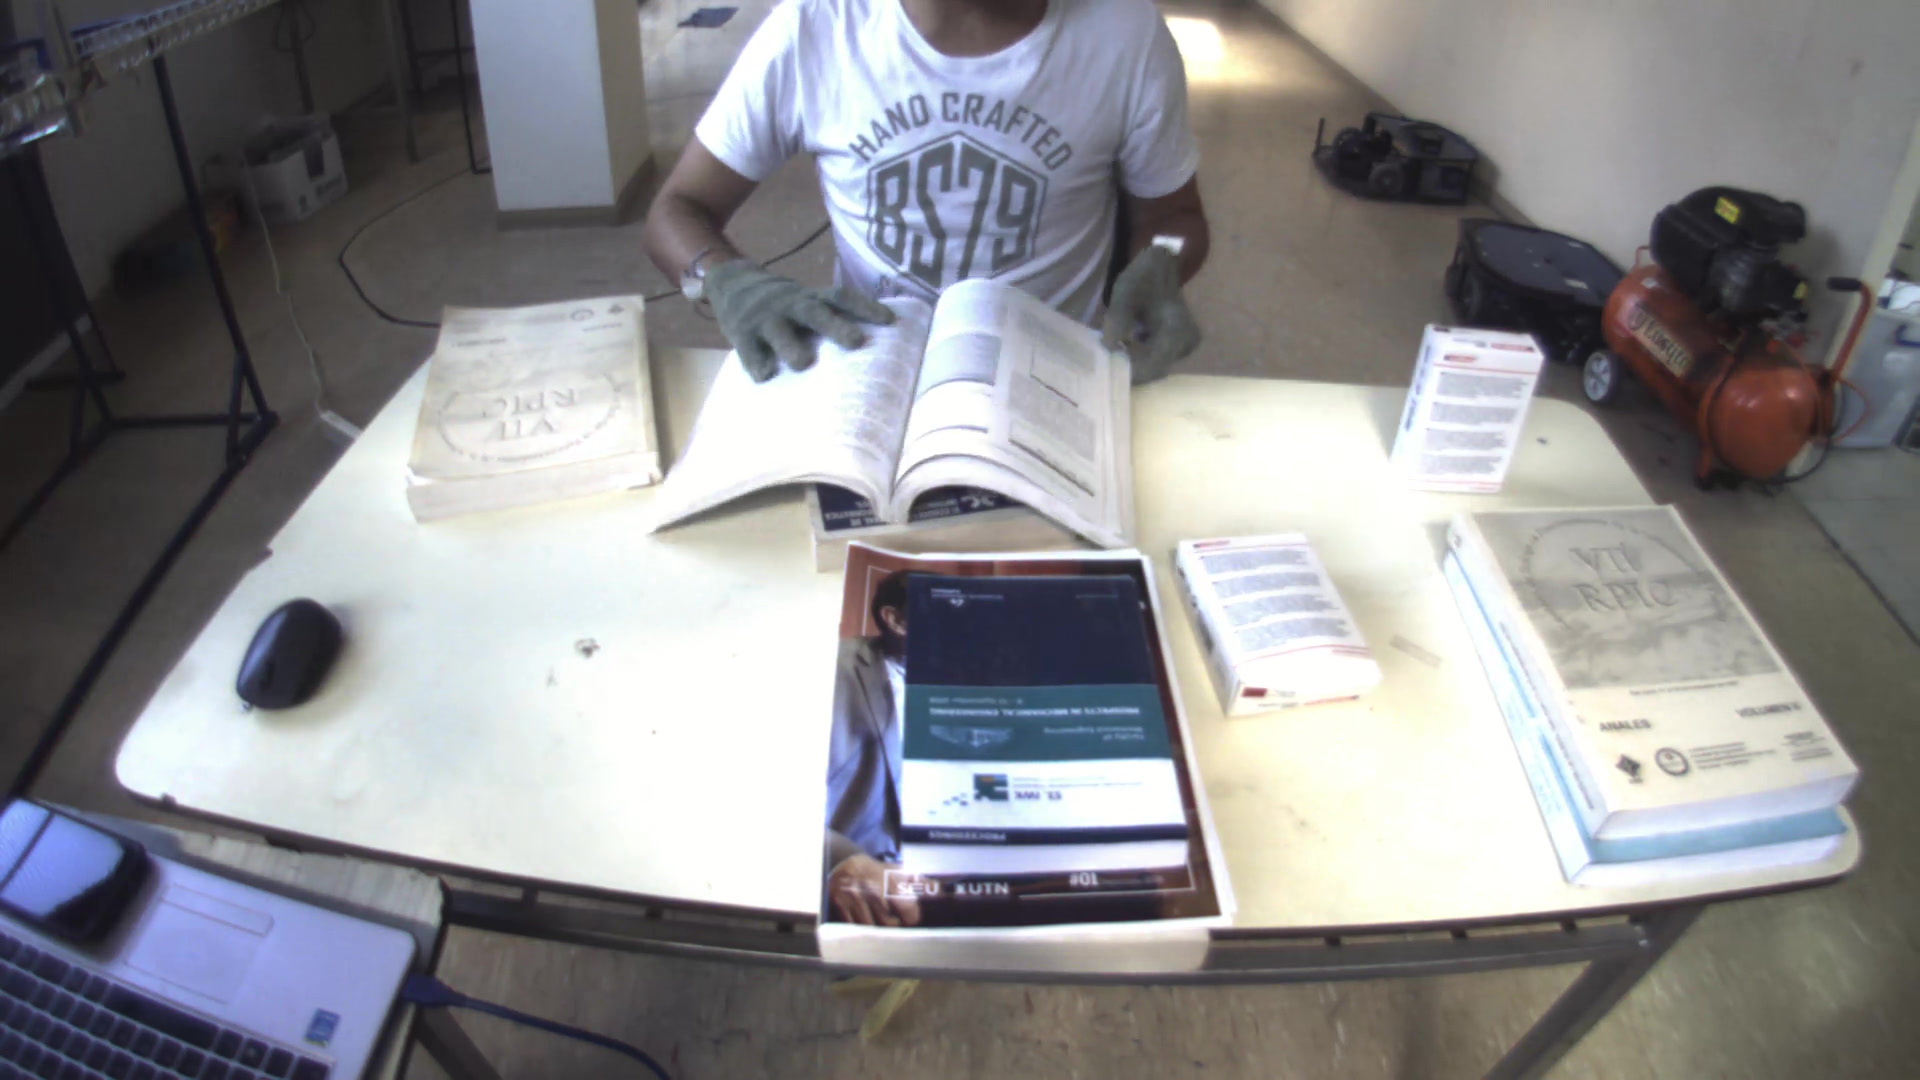hand: (680, 249, 897, 385), (1093, 237, 1211, 369)
